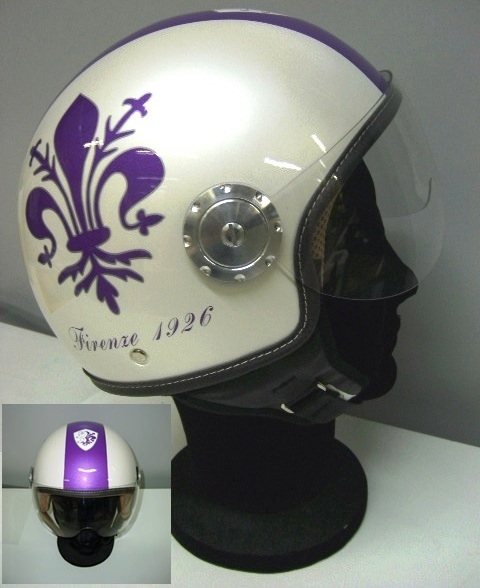helmet: (23, 48, 397, 372), (29, 424, 142, 517)
